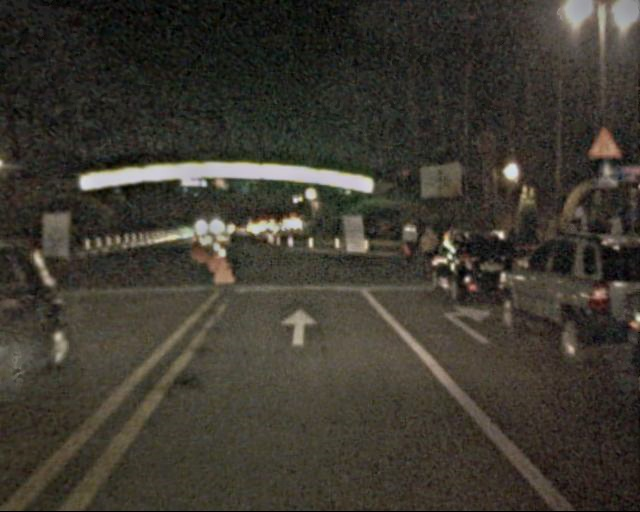person: (419, 224, 441, 277), (399, 217, 420, 267)
